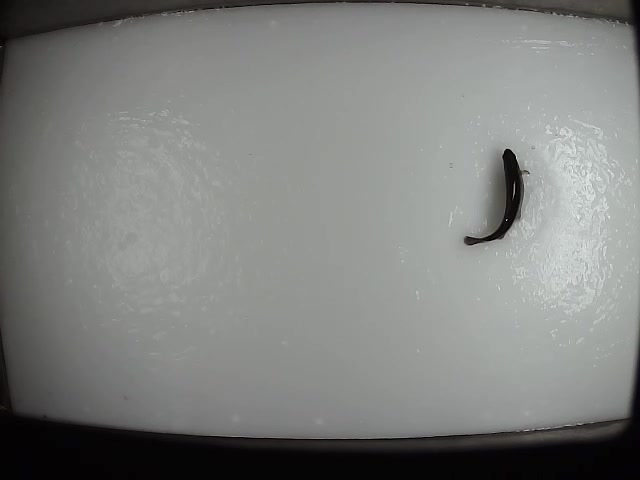fish: (461, 144, 529, 247)
